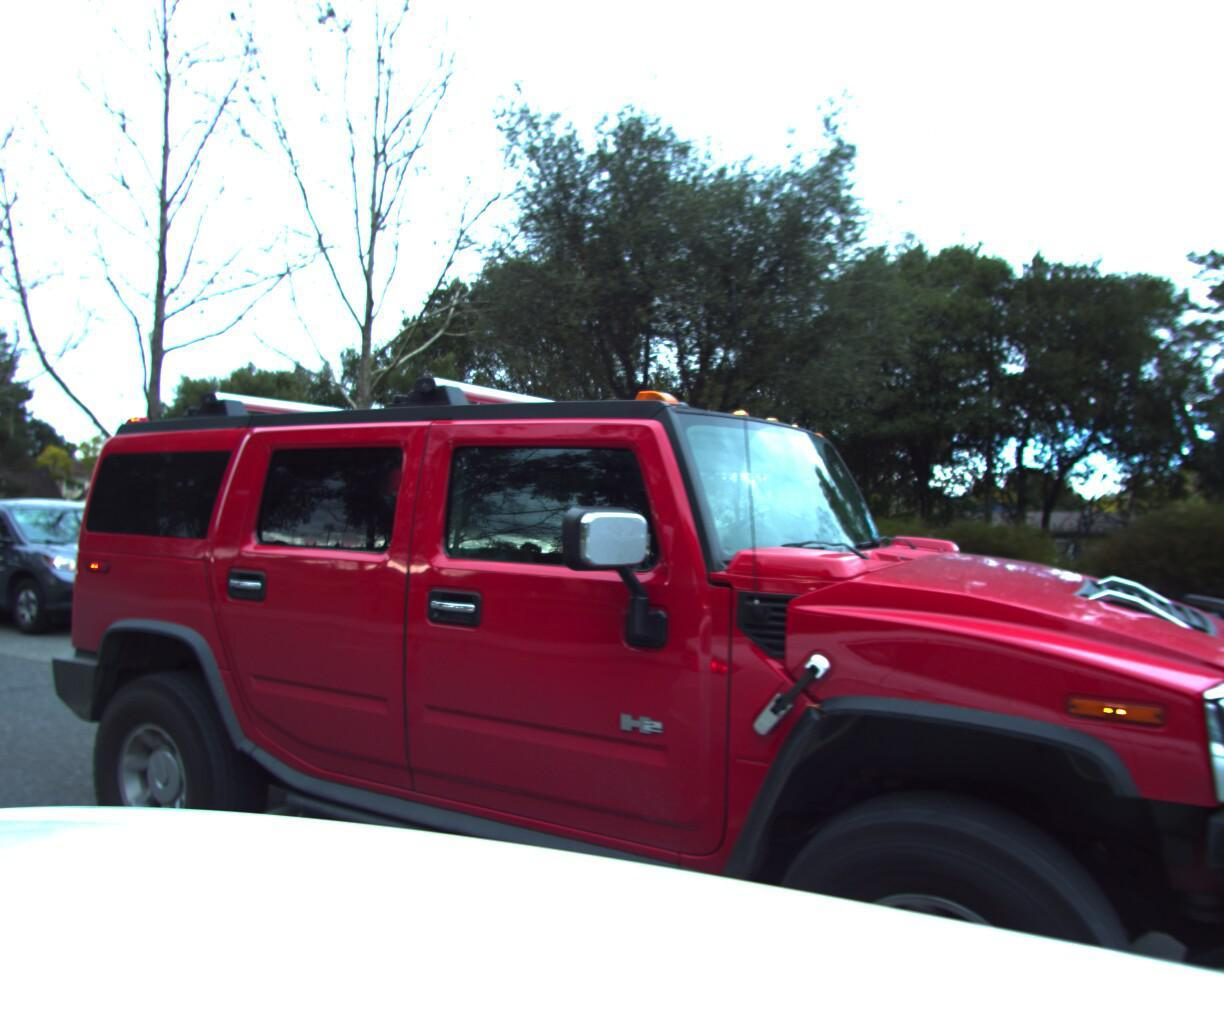car: (0, 265, 1224, 1024), (0, 495, 213, 646)
